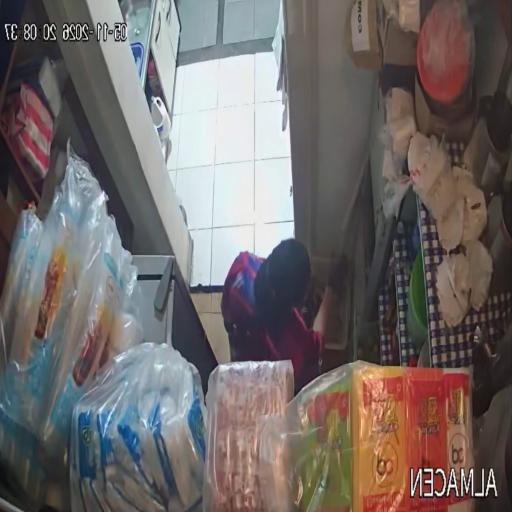Persona1: (221, 238, 346, 393)
Productos culinarios: (257, 361, 498, 512), (70, 343, 206, 512), (203, 360, 294, 512)
Taper: (407, 250, 428, 347)
Taper2: (417, 340, 430, 366)
